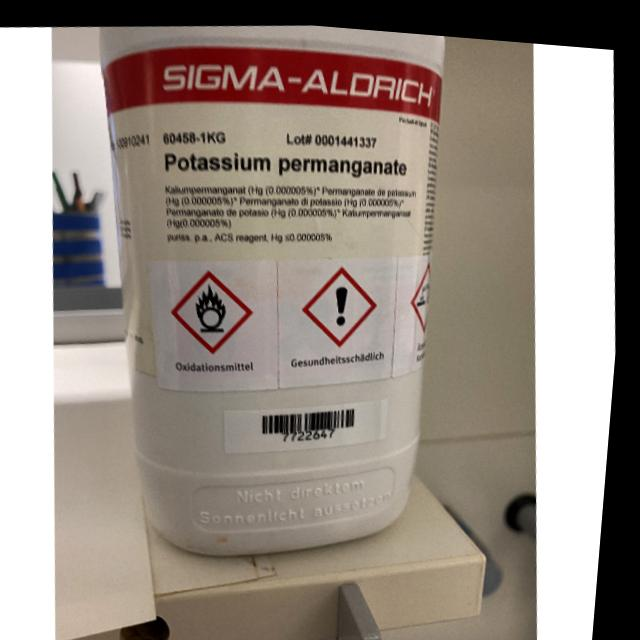health-ozone layer hazard: (337, 278, 357, 320)
oxidising: (196, 277, 235, 332)
